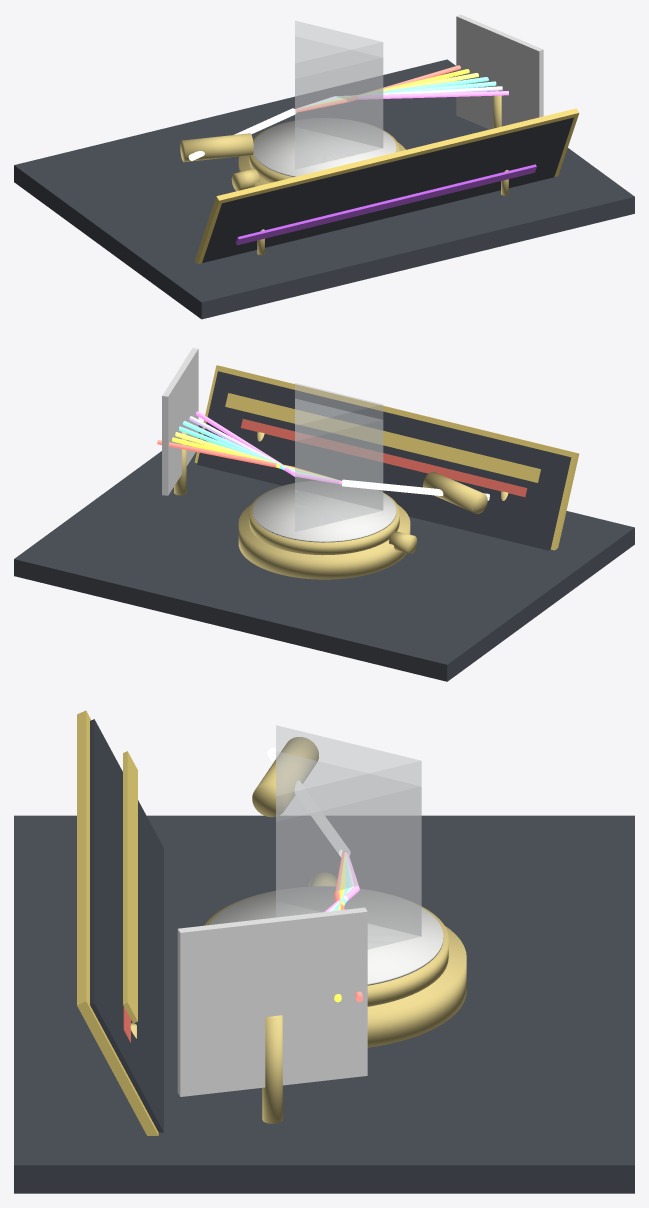
The model's file is glass-prism.glb.
3 views of the same model, one above another, from view 1: azimuth 30°, elevation 25°; view 2: azimuth 150°, elevation 25°; view 3: azimuth 270°, elevation 25° (orthographic). The views are drawn at different scales.
Visible parts, largest first — view 1: glass-prism_Plinth, Sec_Plinth, Sec_Plaque_Board, glass-prism_Body, Sec_Prism_Body, Sec_Obs_Screen, glass-prism_Scale_Disc, Sec_Plaque_Frame, Sec_Plaque_Bar_Violet, Sec_Collimator_Tube, Sec_Ray_Out_Violet, glass-prism_Table_Disc (+4 smaller); view 2: Sec_Plinth, Sec_Plaque_Board, glass-prism_Body, Sec_Prism_Body, glass-prism_Scale_Disc, glass-prism_Plinth, Sec_Plaque_Title, glass-prism_Table_Base, Sec_Obs_Screen, Sec_Plaque_Frame, Sec_Plaque_Bar_Red, glass-prism_Table_Disc (+4 smaller); view 3: glass-prism_Plinth, Sec_Plinth, Sec_Obs_Screen, glass-prism_Body, Sec_Prism_Body, Sec_Plaque_Board, glass-prism_Scale_Disc, Sec_Plaque_Frame, glass-prism_Table_Base, Sec_Plaque_Title, Sec_Collimator_Tube, glass-prism_Table_Disc (+2 smaller).
Boxes of the visible parts, bbox=[...] form: glass-prism_Plinth: bbox=[49, 72, 599, 289]; Sec_Plinth: bbox=[14, 59, 634, 319]; Sec_Plaque_Board: bbox=[202, 117, 573, 262]; glass-prism_Body: bbox=[295, 20, 383, 169]; Sec_Prism_Body: bbox=[295, 36, 382, 169]; Sec_Obs_Screen: bbox=[456, 14, 543, 129]; glass-prism_Scale_Disc: bbox=[253, 118, 396, 177]; Sec_Plaque_Frame: bbox=[194, 108, 579, 263]; Sec_Plaque_Bar_Violet: bbox=[235, 164, 536, 245]; Sec_Collimator_Tube: bbox=[180, 133, 253, 162]; Sec_Ray_Out_Violet: bbox=[334, 91, 508, 99]; glass-prism_Table_Disc: bbox=[249, 122, 399, 182]; Sec_Plinth: bbox=[14, 425, 634, 681]; Sec_Plaque_Board: bbox=[197, 371, 571, 550]; glass-prism_Body: bbox=[295, 383, 383, 531]; Sec_Prism_Body: bbox=[295, 399, 382, 531]; glass-prism_Scale_Disc: bbox=[252, 481, 396, 542]; glass-prism_Plinth: bbox=[96, 452, 573, 627]; Sec_Plaque_Title: bbox=[225, 393, 540, 482]; glass-prism_Table_Base: bbox=[238, 504, 410, 579]; Sec_Obs_Screen: bbox=[162, 348, 198, 495]; Sec_Plaque_Frame: bbox=[194, 365, 579, 550]; Sec_Plaque_Bar_Red: bbox=[241, 419, 527, 496]; glass-prism_Table_Disc: bbox=[249, 485, 399, 555]; glass-prism_Plinth: bbox=[40, 837, 608, 1143]; Sec_Plinth: bbox=[14, 815, 634, 1193]; Sec_Obs_Screen: bbox=[177, 907, 367, 1096]; glass-prism_Body: bbox=[276, 725, 421, 949]; Sec_Prism_Body: bbox=[276, 751, 421, 948]; Sec_Plaque_Board: bbox=[90, 719, 163, 1132]; glass-prism_Scale_Disc: bbox=[209, 886, 443, 985]; Sec_Plaque_Frame: bbox=[77, 710, 158, 1135]; glass-prism_Table_Base: bbox=[367, 925, 466, 1047]; Sec_Plaque_Title: bbox=[123, 751, 137, 1023]; Sec_Collimator_Tube: bbox=[252, 737, 318, 817]; glass-prism_Table_Disc: bbox=[204, 892, 448, 1006].
Bounding box in the file's own units: 0.32 × 0.11 × 0.24.
